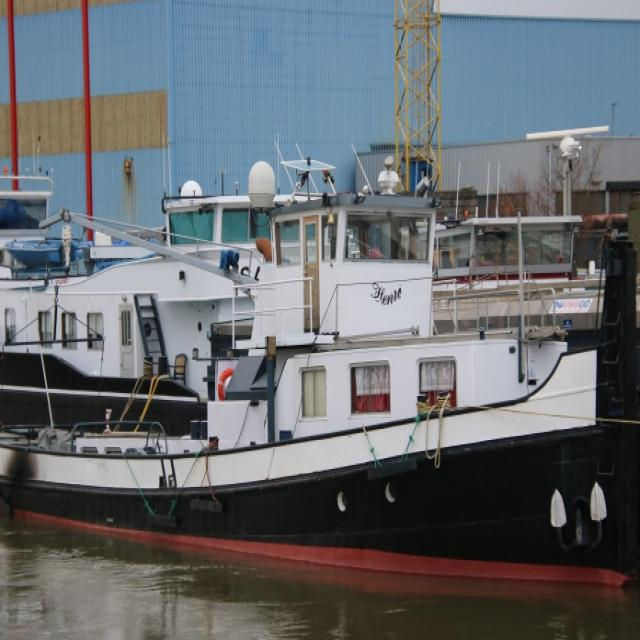tugboat: (1, 150, 640, 619)
